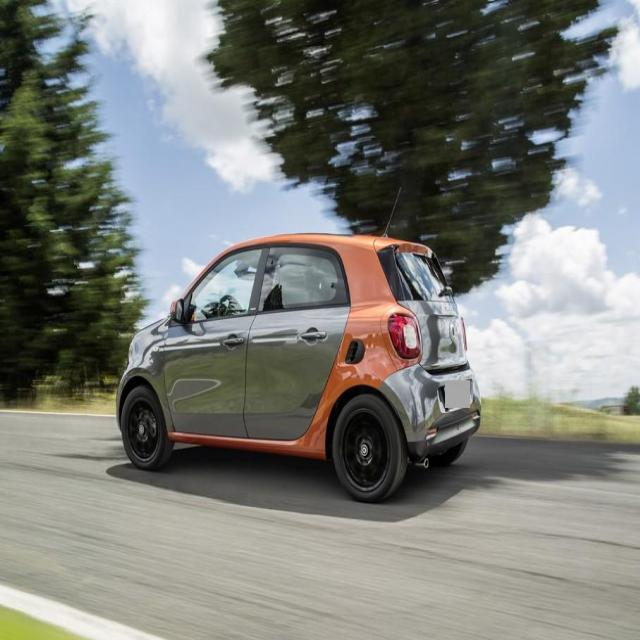back_glass: (395, 250, 454, 302)
back_left_side_light: (387, 310, 422, 359)
back_right_side_light: (461, 316, 467, 351)
door: (246, 241, 347, 440)
front_left_side_door: (163, 238, 269, 440)
front_left_side_mirror: (170, 297, 185, 322)
rear_bumper: (377, 361, 483, 457)
wheel: (332, 392, 407, 501), (120, 384, 174, 471)
